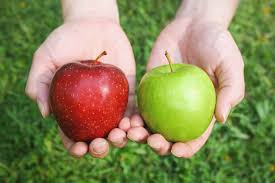apel: (47, 55, 131, 151), (136, 60, 217, 148)
